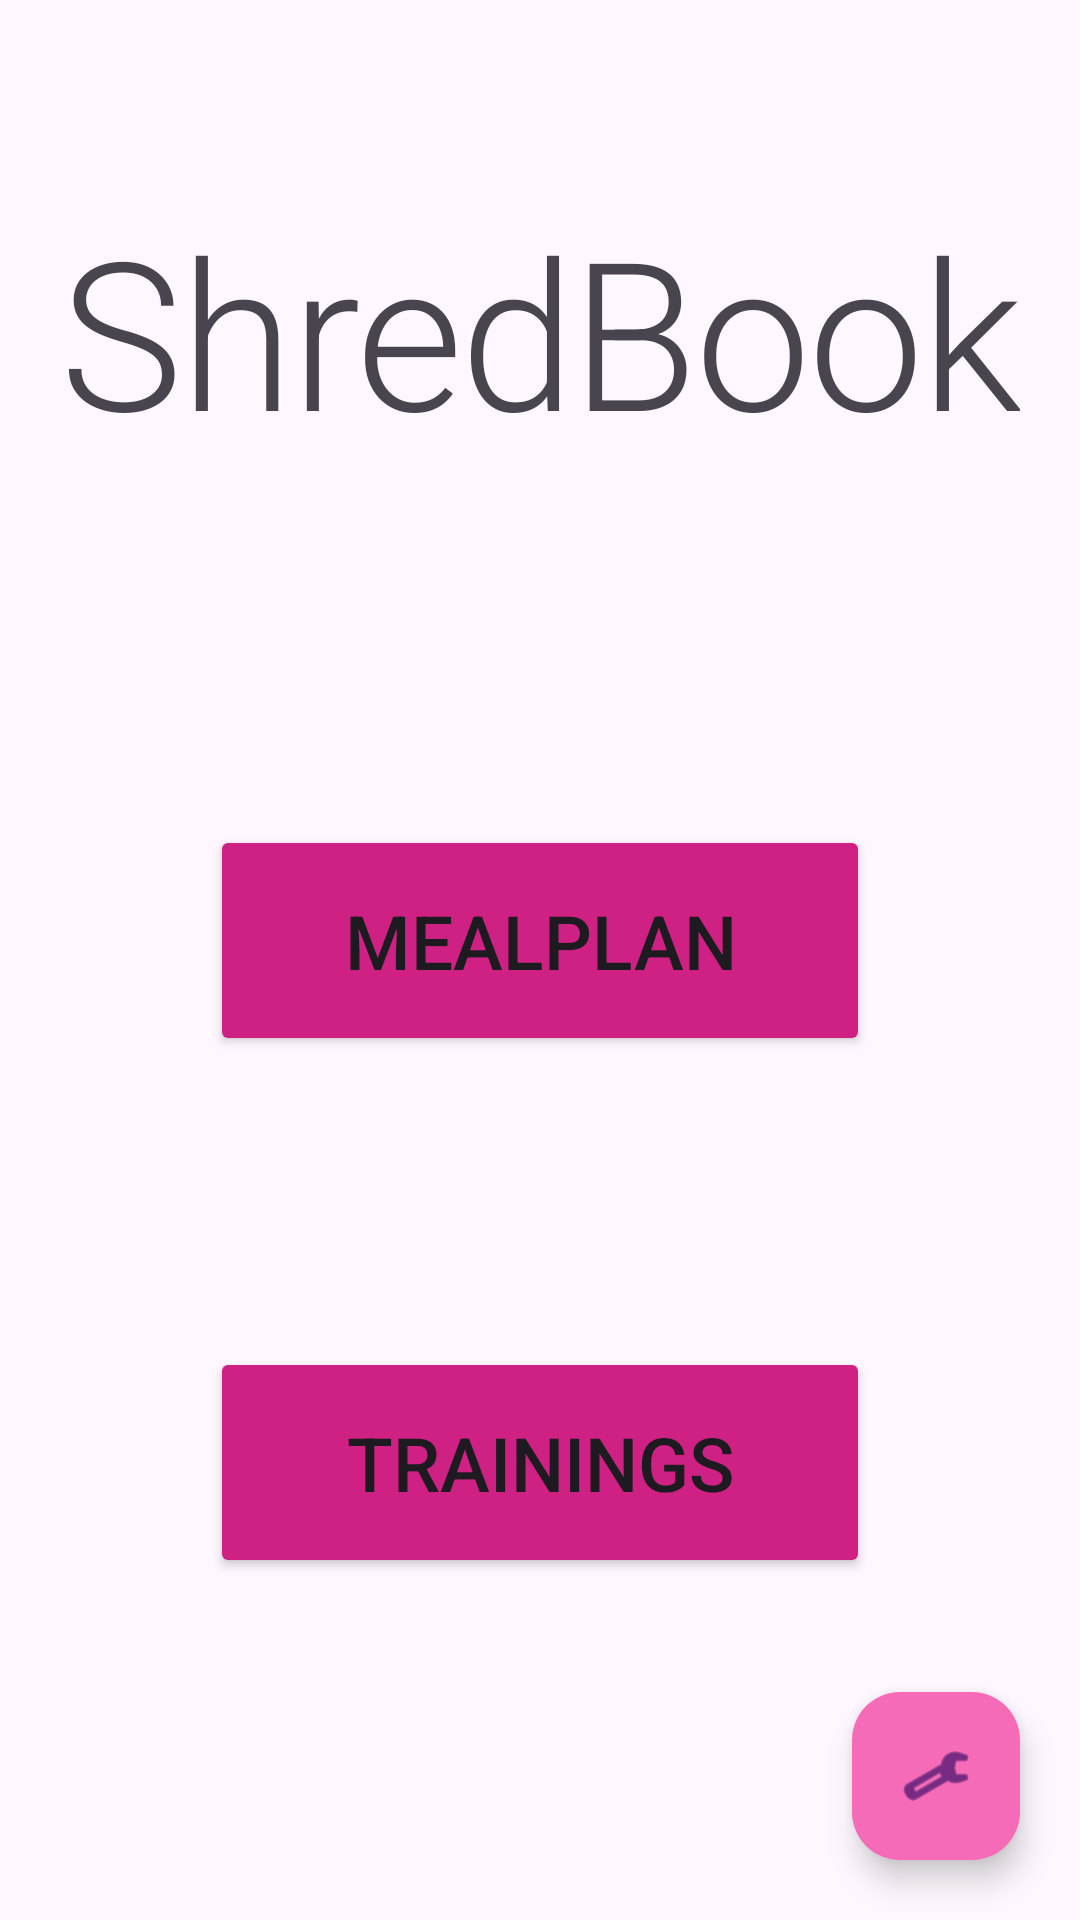

Point at icon controls on the screen. Image size 1080×1920, points as (x=x, y=y).
Settings: (x=936, y=1776)
